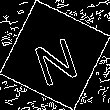N_N: (28, 25, 82, 85)
